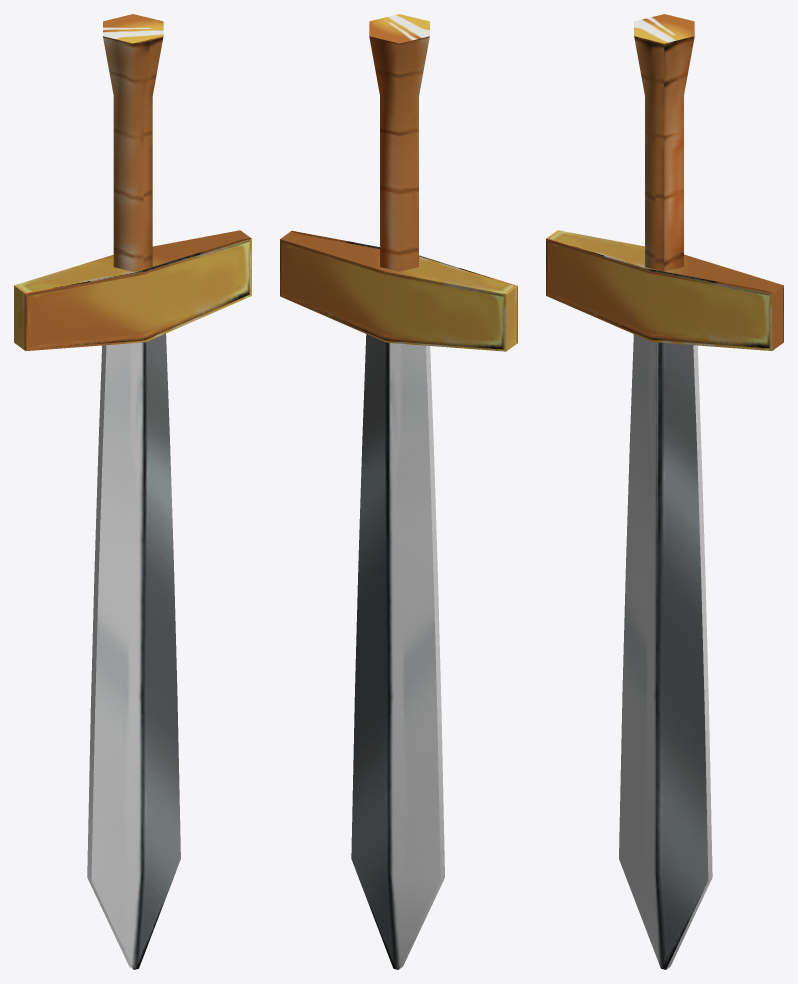
The model's file is lyq_jian.FBX.
The picture shows the model from 3 angles, left to right: view 1: azimuth 30°, elevation 25°; view 2: azimuth 150°, elevation 25°; view 3: azimuth 330°, elevation 25°; orthographic projection.
Parts seen in each view (by area): view 1: lyq_jian; view 2: lyq_jian; view 3: lyq_jian.
Part boxes in pixels (x1,y1,x2,y2): lyq_jian: (14,14,251,969); lyq_jian: (280,14,517,969); lyq_jian: (546,14,783,969).
Size of the model in its own units: 48.02 by 190 by 11.16.
